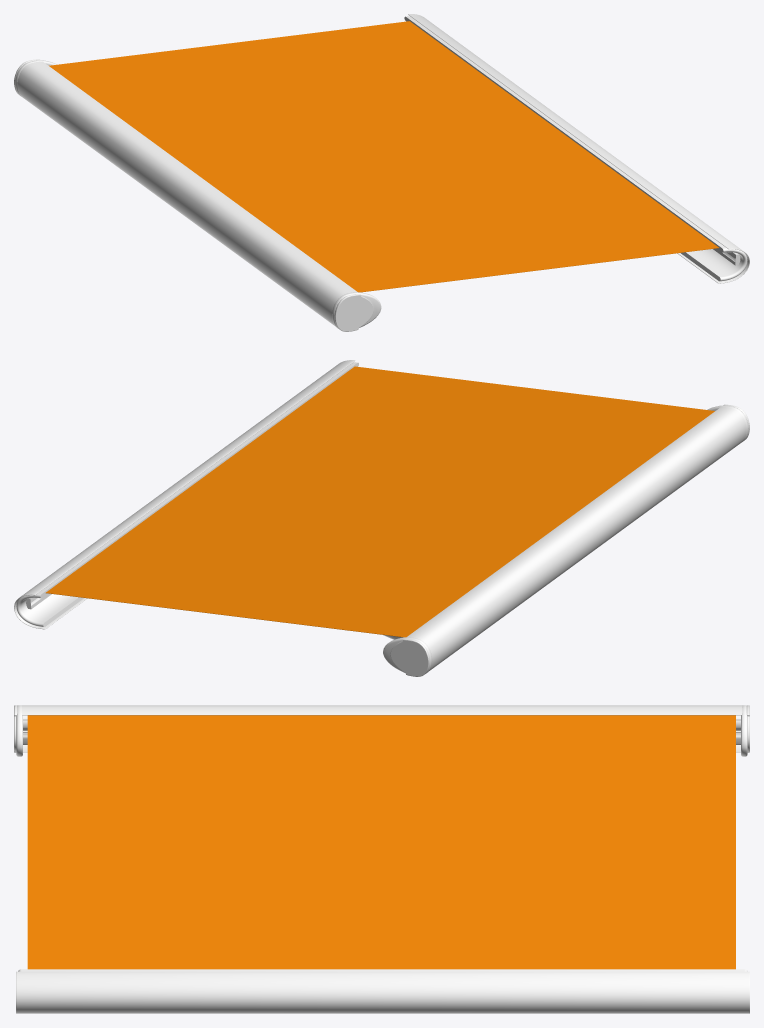
The model's file is Gold XXL.glb.
The picture shows the model from 3 angles, top to bottom: view 1: azimuth 30°, elevation 25°; view 2: azimuth 150°, elevation 25°; view 3: azimuth 270°, elevation 25°; orthographic projection. The views are drawn at different scales.
Parts seen in each view (by area): view 1: Plane, Circle.007, BezierCurve, BezierCurve.001, Circle.006; view 2: Plane, Circle.007, BezierCurve, BezierCurve.001, Circle.005; view 3: Plane, BezierCurve, Circle.007, BezierCurve.001.
Part boxes in pixels (x1=…): Plane: x1=49, y1=21, x2=718, y2=292; Circle.007: x1=17, y1=61, x2=357, y2=326; BezierCurve: x1=408, y1=14, x2=749, y2=283; BezierCurve.001: x1=404, y1=16, x2=747, y2=281; Circle.006: x1=334, y1=294, x2=373, y2=331; Plane: x1=46, y1=366, x2=714, y2=637; Circle.007: x1=407, y1=407, x2=746, y2=670; BezierCurve: x1=14, y1=360, x2=355, y2=629; BezierCurve.001: x1=16, y1=362, x2=358, y2=626; Circle.005: x1=390, y1=639, x2=429, y2=676; Plane: x1=27, y1=715, x2=735, y2=969; BezierCurve: x1=16, y1=971, x2=749, y2=1013; Circle.007: x1=21, y1=705, x2=742, y2=752; BezierCurve.001: x1=18, y1=969, x2=747, y2=971.
Size of the model in its own units: 2.98 by 0.5464 by 4.
5 materials, 1 textured.
